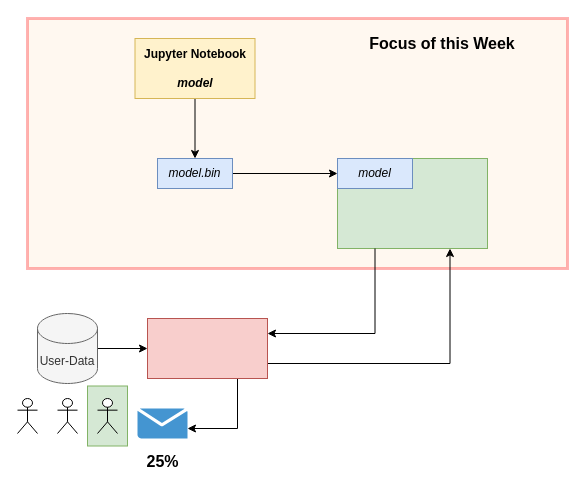
The diagram is 586 pixels wide and 493 high, and some of its shapes have lost their labels. The box of each missing label's shape, as (x1, y1, x2, y2) in pixels:
Churn Service: (336, 158, 488, 248)
Marketing Service: (146, 318, 268, 378)
